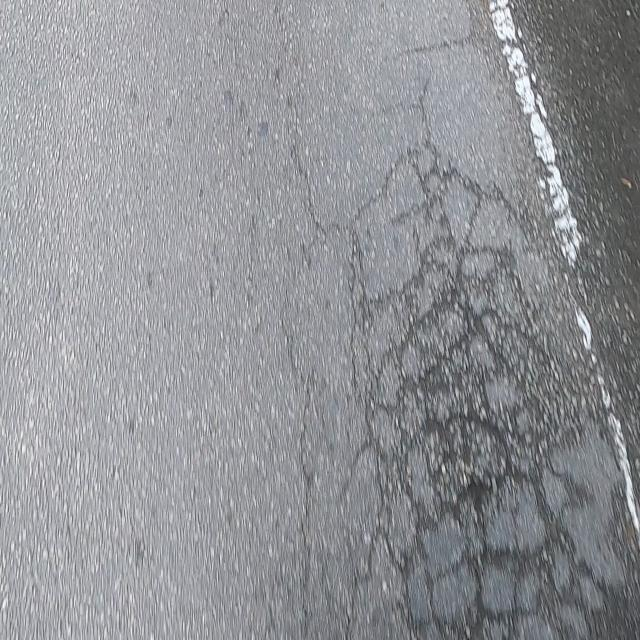Retak-Buaya: (350, 143, 626, 640)
Retak-Memanjang: (282, 288, 313, 640)
